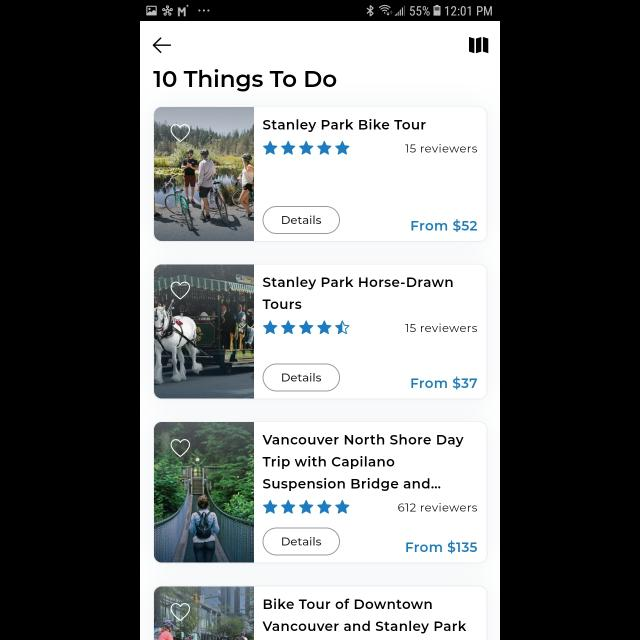icon: (262, 321, 350, 335), (262, 141, 350, 155), (263, 501, 349, 514), (171, 280, 191, 300), (170, 125, 190, 144), (468, 37, 488, 54), (172, 603, 190, 621), (172, 439, 190, 457), (153, 38, 171, 54)
image: (154, 422, 254, 562), (154, 265, 254, 399), (154, 107, 254, 241), (154, 586, 254, 640)
text: (262, 598, 466, 634), (262, 434, 463, 470), (263, 276, 453, 310), (154, 70, 336, 92), (263, 477, 441, 491), (262, 120, 426, 132), (407, 540, 478, 554), (411, 376, 477, 389), (398, 502, 478, 512), (412, 220, 476, 232), (405, 144, 477, 154), (405, 323, 477, 332)
textbutton: (263, 206, 341, 234), (264, 528, 340, 556), (264, 364, 340, 392)
uppertaskbar: (140, 1, 500, 22)
